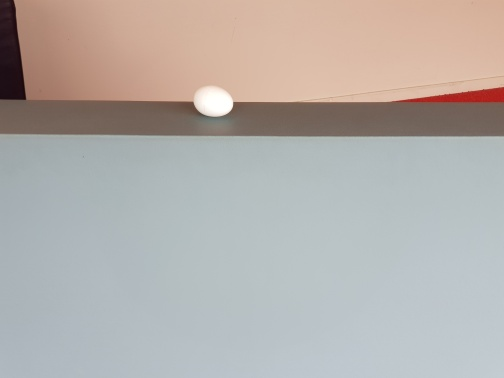egg: (189, 85, 235, 118)
